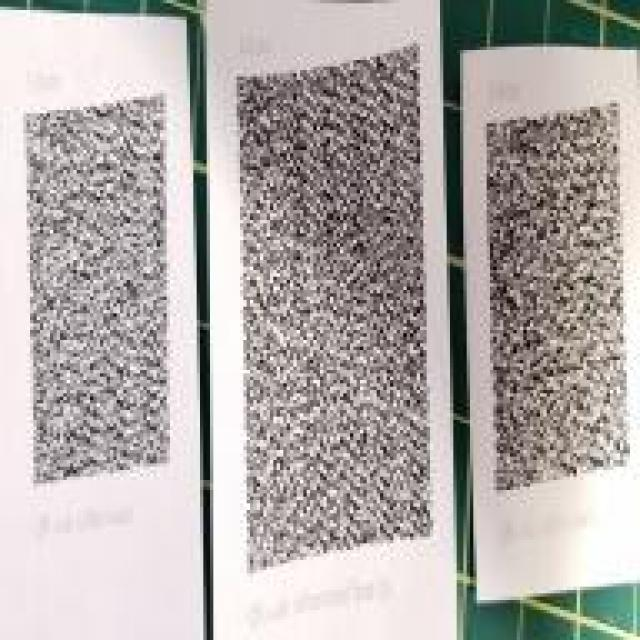QR_CODE: (227, 17, 443, 608), (13, 30, 177, 503), (480, 77, 633, 555)
